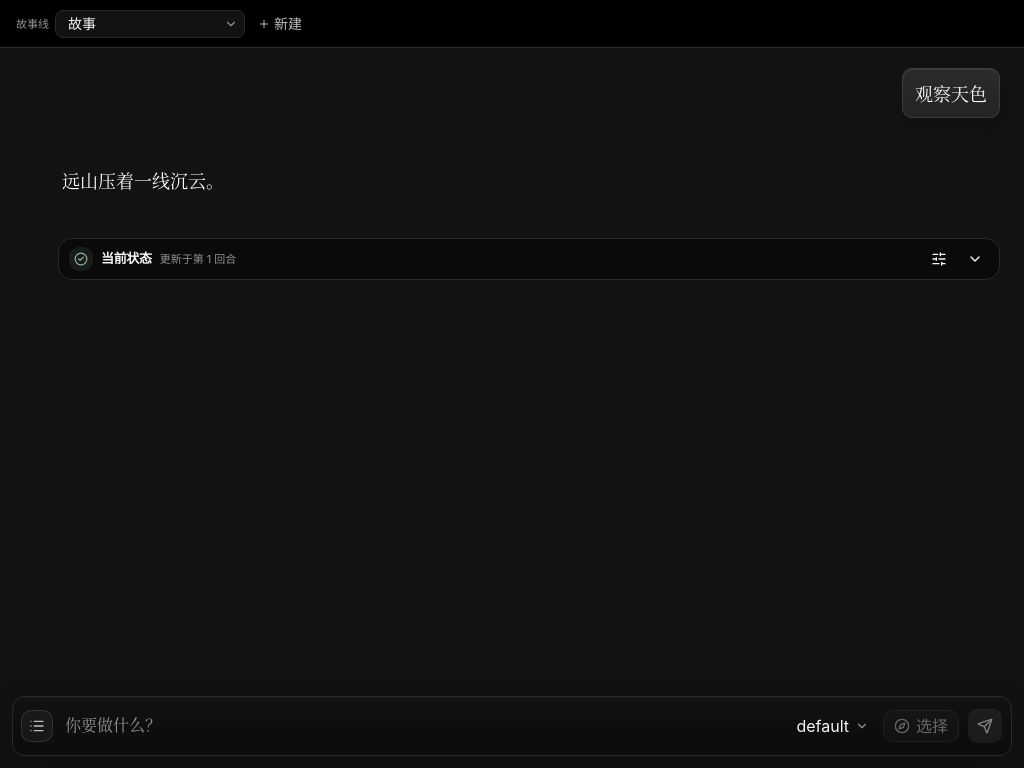
StoryStage current state ledger › places the collapsed state after the latest prose and reveals World State as a peer tab on demand
The image size is (1024, 768).
Expected: the tab "世界状态" is not shown
Click the button named "展开状态面板".
click(975, 259)  # box [961,245,989,273]
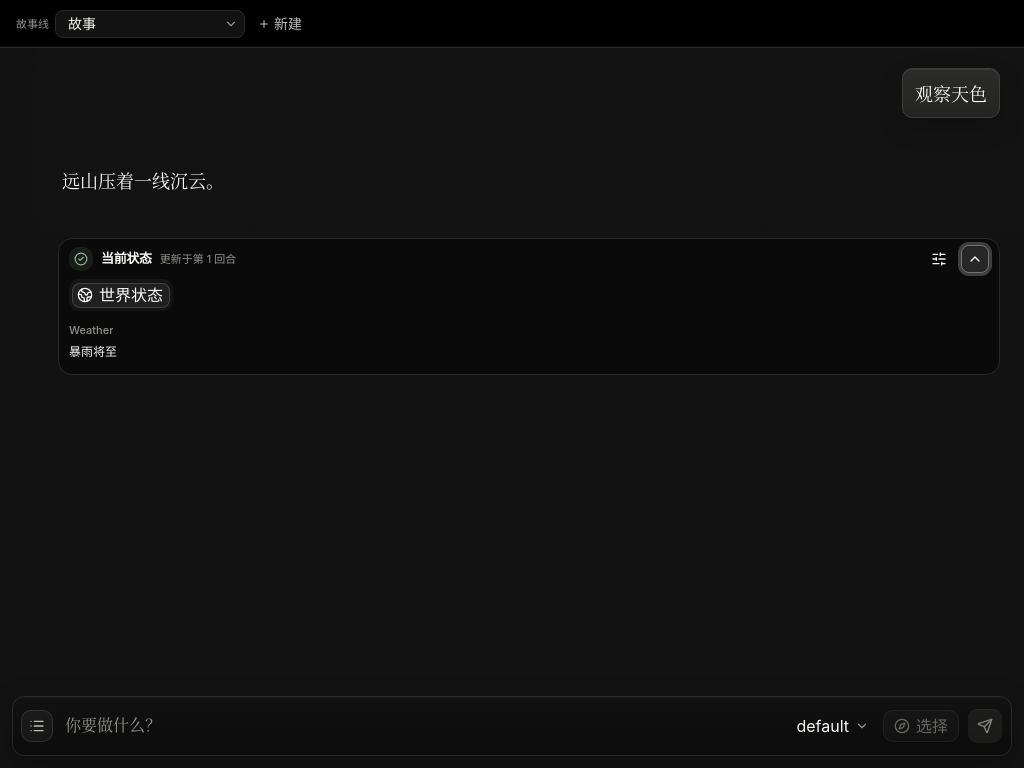
Now the text "暴雨将至" is shown, box [69,344,117,359]
